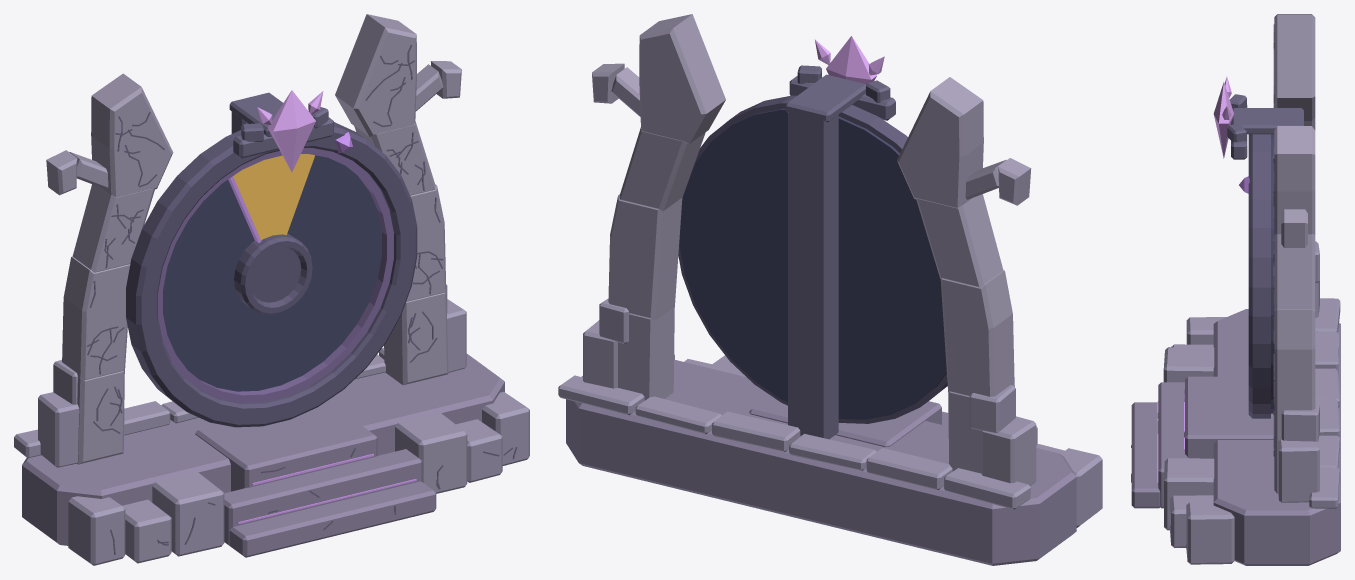
Rendered from SpinWheel.glb.
3 renders of one model, left to right at view 1: azimuth 30°, elevation 25°; view 2: azimuth 150°, elevation 25°; view 3: azimuth 270°, elevation 25°, orthographic. The views are drawn at different scales.
Parts seen in each view (by area): view 1: BaseStone, WheelBacking, BaseBlocks, PostL, WheelRim, PostR, WheelRimInner, Hub, Sector, Cracks, BackFrame, Crystal (+1 smaller); view 2: WheelBacking, BaseStone, PostR, PostL, BaseBlocks, BackFrame, WheelRim, Crystal; view 3: BaseStone, BaseBlocks, PostR, WheelRim, PostL, BackFrame, WheelBacking, Crystal, Cracks.
Part boxes in pixels (x1,y1,x2,y2): BaseStone: (22,354,504,557); WheelBacking: (163,155,381,391); BaseBlocks: (14,284,529,565); PostL: (46,73,173,464); WheelRim: (126,122,417,427); PostR: (335,14,461,385); WheelRimInner: (158,148,393,402); Hub: (234,233,312,314); Sector: (233,154,314,240); Cracks: (87,45,517,554); BackFrame: (229,92,333,158); Crystal: (257,90,323,172); WheelBacking: (679,108,946,419); BaseStone: (566,359,1076,565); PostR: (592,14,725,400); PostL: (897,77,1031,473); BaseBlocks: (558,298,1102,527); BackFrame: (785,65,895,439); WheelRim: (678,95,947,423); Crystal: (815,36,884,84); BaseStone: (1131,309,1340,565); BaseBlocks: (1163,241,1340,564); PostR: (1274,126,1315,493); WheelRim: (1248,134,1270,418); PostL: (1274,14,1315,130); BackFrame: (1227,94,1303,159); WheelBacking: (1271,134,1274,413); Crystal: (1213,76,1233,158); Cracks: (1131,24,1274,551).
Bounding box in the file's own units: 23.6 × 21.23 × 10.22.
